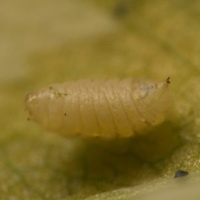insect: (25, 78, 172, 137)
